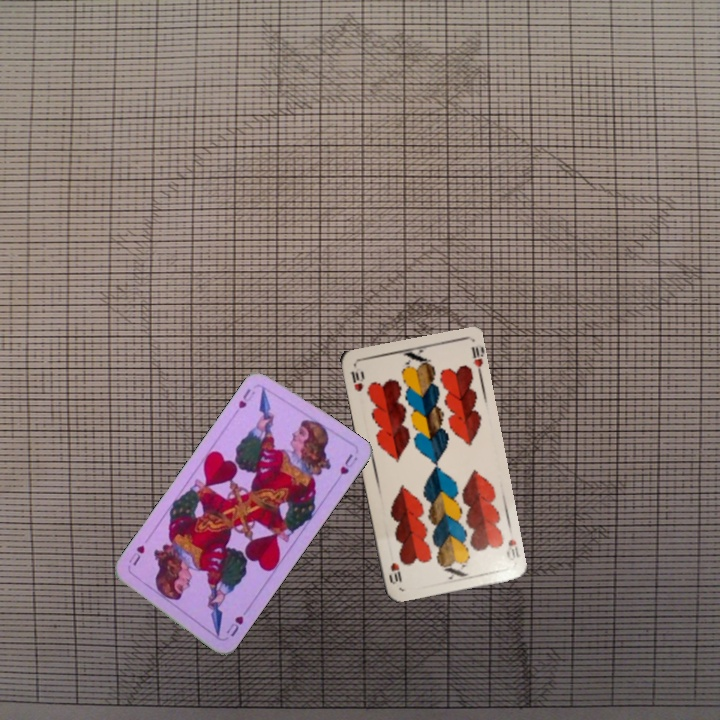H10: (502, 535, 522, 563), (347, 367, 366, 394)
HU: (222, 612, 246, 639), (234, 385, 258, 411)
